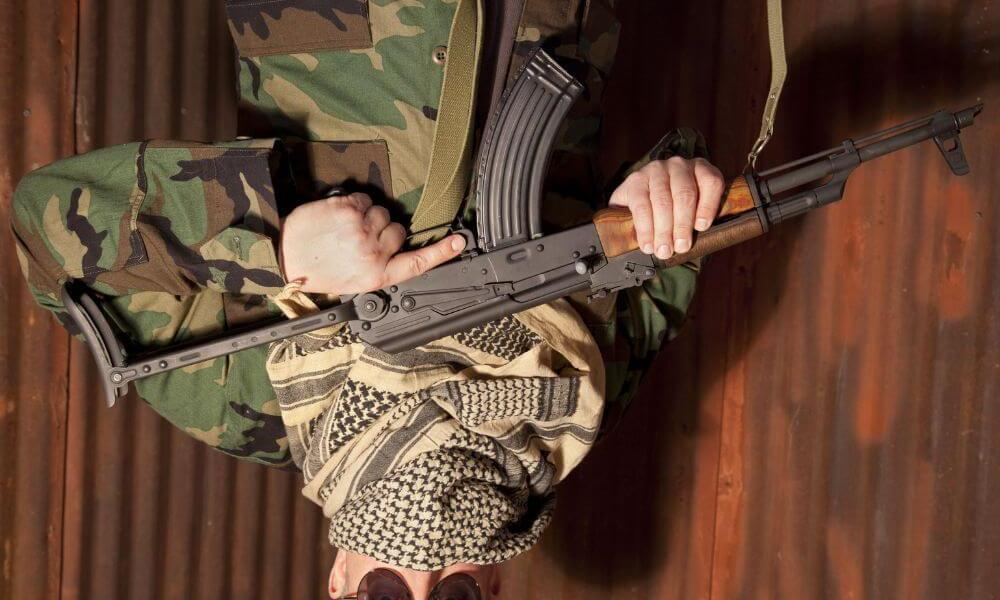larga: (61, 41, 984, 408)
